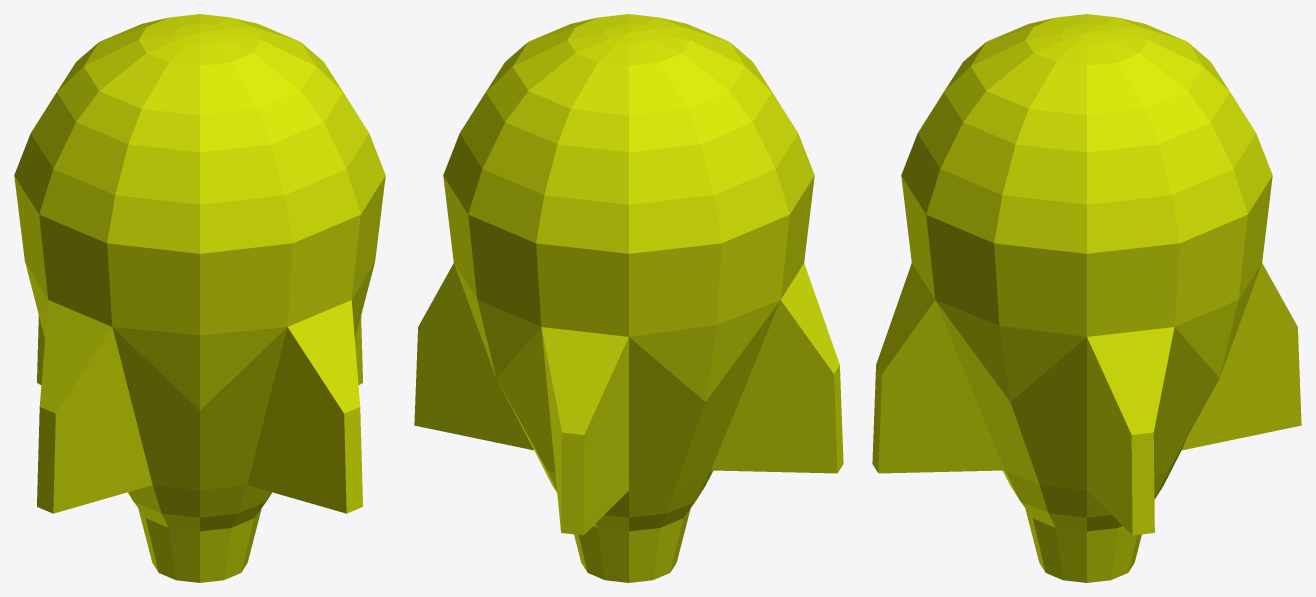
File: Missile 7.fbx
3 views of the same model, side by side, from view 1: azimuth 30°, elevation 25°; view 2: azimuth 150°, elevation 25°; view 3: azimuth 270°, elevation 25° (orthographic).
Visible parts, largest first — view 1: Cube.006; view 2: Cube.006; view 3: Cube.006.
Boxes of the visible parts, x1=… form: Cube.006: x1=14, y1=14, x2=385, y2=582; Cube.006: x1=414, y1=14, x2=843, y2=582; Cube.006: x1=872, y1=14, x2=1301, y2=582.
Bounding box in the file's own units: 512 × 697 × 512.
